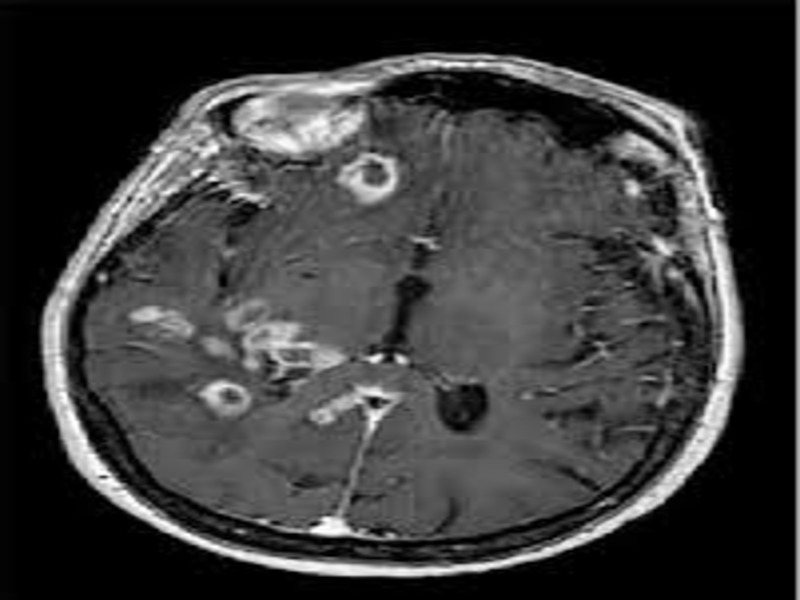tumor: (334, 143, 402, 214)
